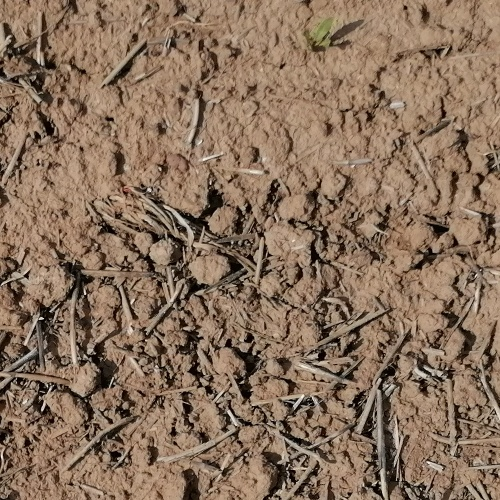beet: (302, 15, 337, 52)
